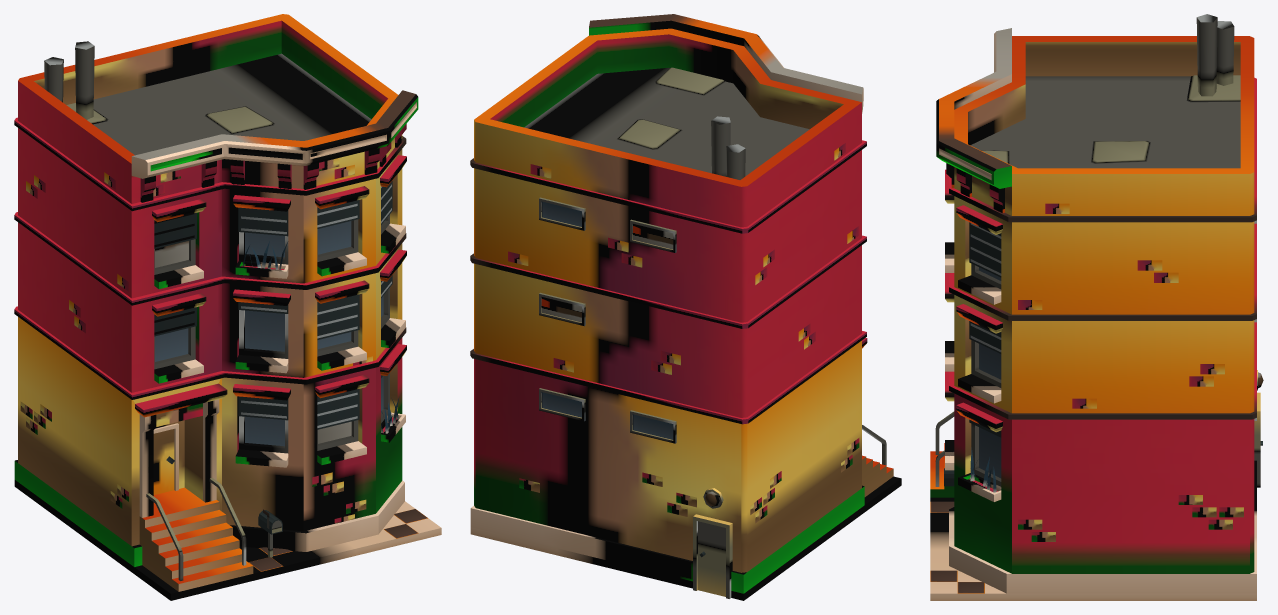
Rendered from Building_3A.fbx.
The picture shows the model from 3 angles, left to right: view 1: azimuth 30°, elevation 25°; view 2: azimuth 150°, elevation 25°; view 3: azimuth 270°, elevation 25°; orthographic projection. The views are drawn at different scales.
Parts seen in each view (by area): view 1: Building_3A, Window_Lights_3A; view 2: Building_3A, Window_Lights_3A; view 3: Building_3A.
Boxes of the visible parts, <box> form: Building_3A: <box>14,14,441,600</box>; Window_Lights_3A: <box>155,241,351,443</box>; Building_3A: <box>470,14,901,600</box>; Window_Lights_3A: <box>541,224,673,322</box>; Building_3A: <box>930,14,1263,600</box>.
Size of the model in its own units: 12.42 by 18.95 by 12.24.
